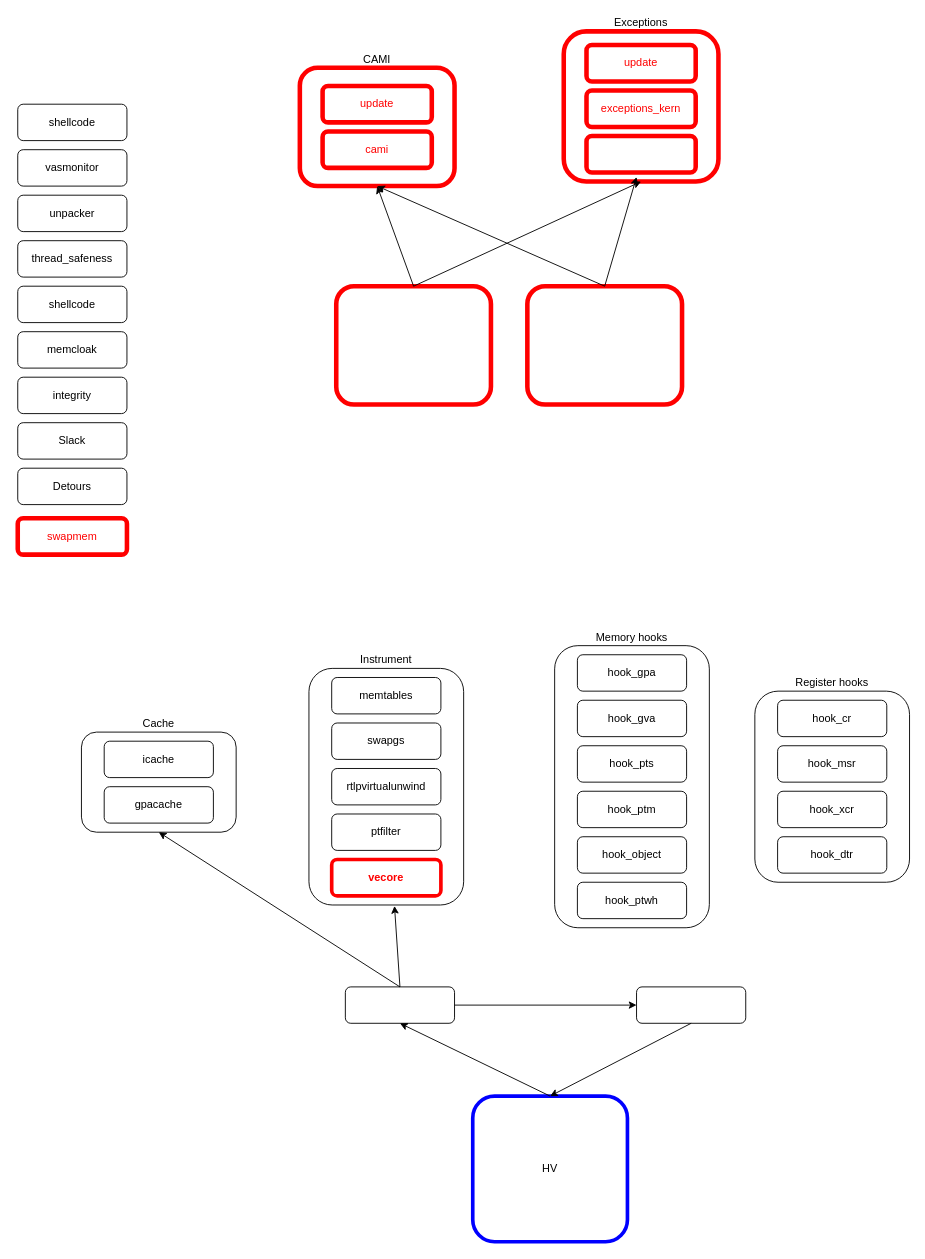
The diagram is 925 pixels wide and 1259 high, and some of its shapes have lost their labels. The centre of each missing label's shape, as x and y in pixels:
"callbacks" belongs at (x=399, y=1004).
"exceptions_user" belongs at (x=641, y=153).
"introcore" belongs at (x=691, y=1004).
"Linux" belongs at (x=604, y=344).
"Windows" belongs at (x=413, y=344).
